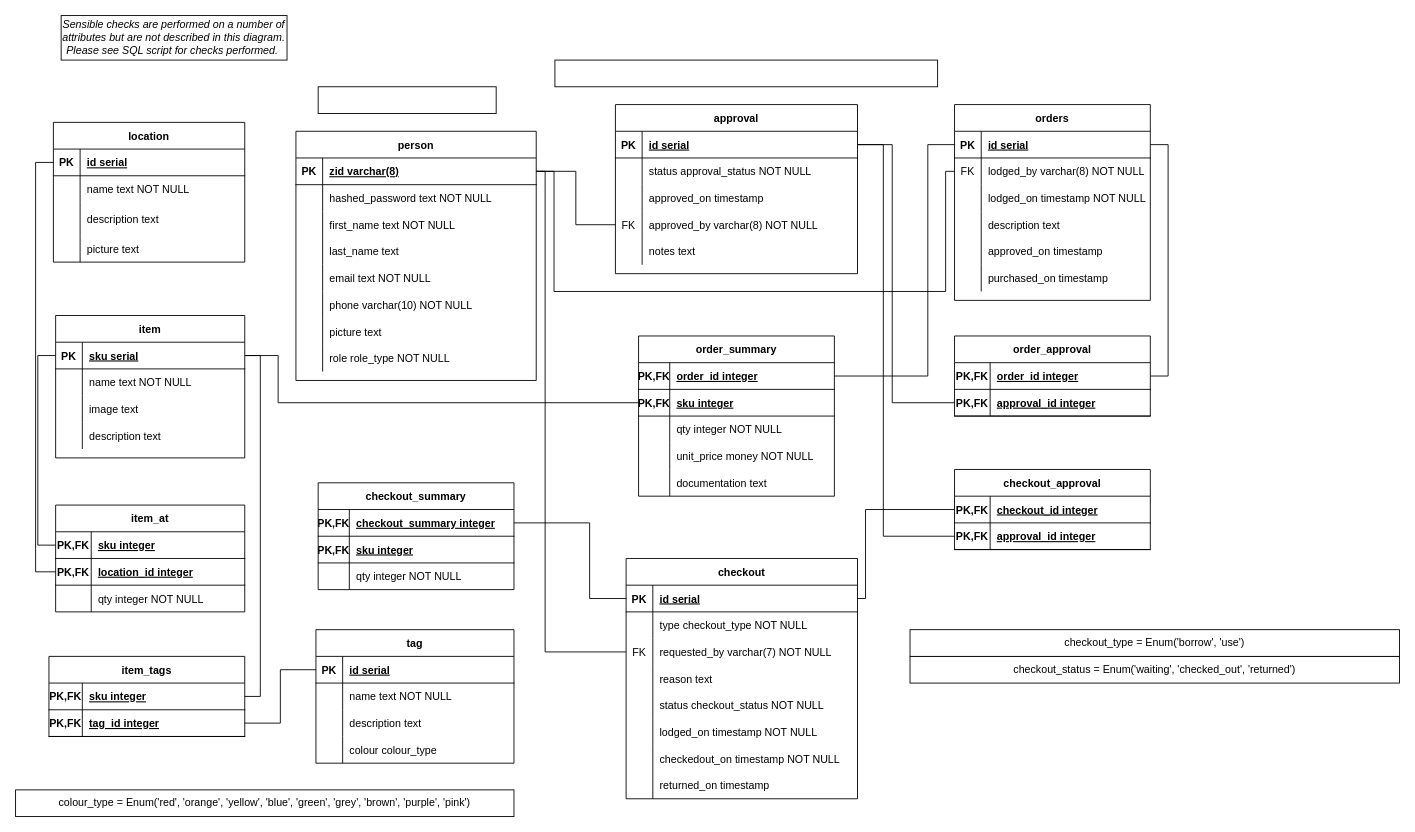
Image size: 1415x832. Some labels were removed from this diagram. The centre of each missing label's shape, as x and y in pixels:
approval_status = Enum('pending_approval', 'approved', 'not_approved'): point 746,73
role_type = Enum('admin', 'member'): point 406,99
